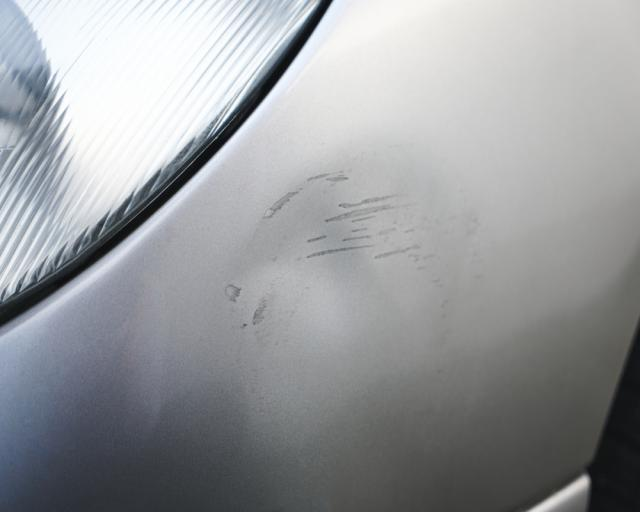dent: (230, 156, 451, 331)
